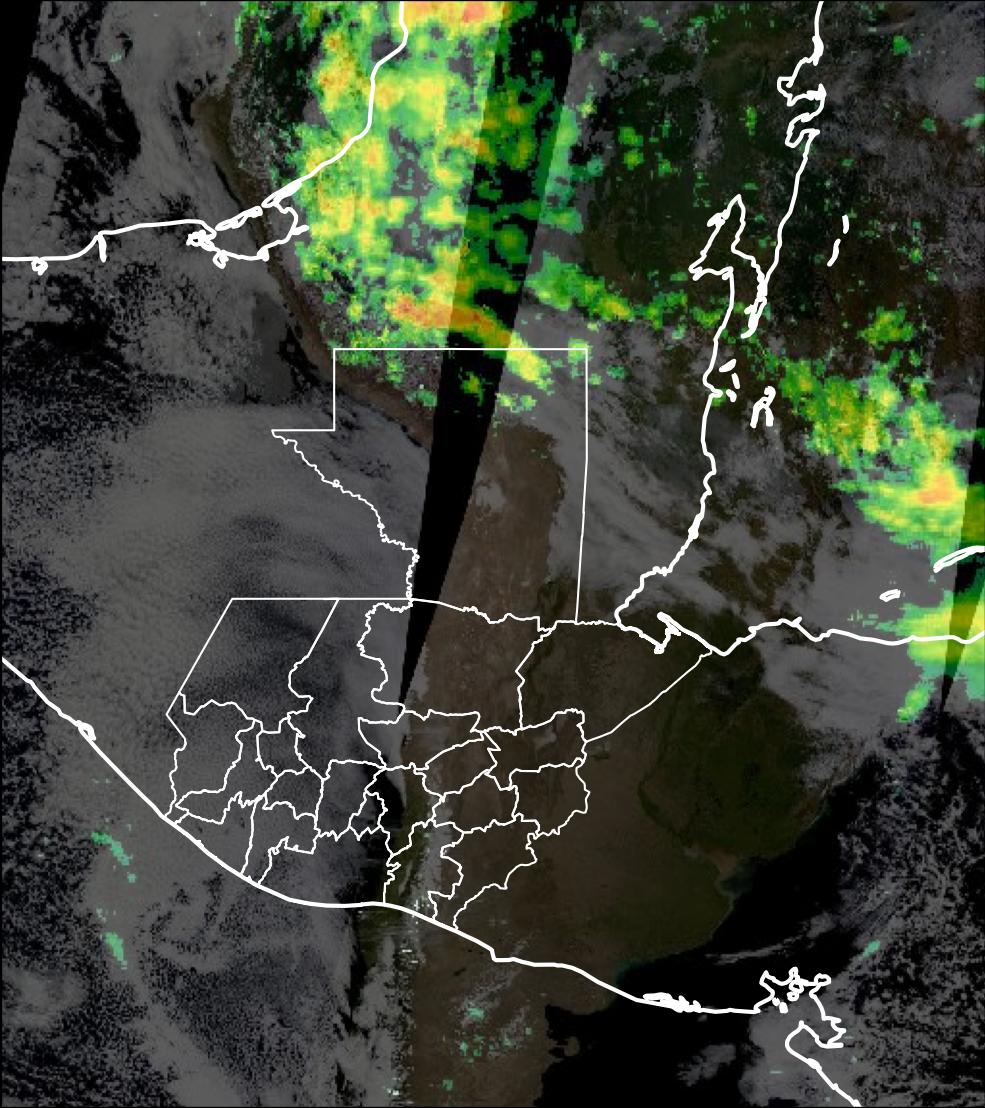precipitacion: (383, 276, 506, 341)
